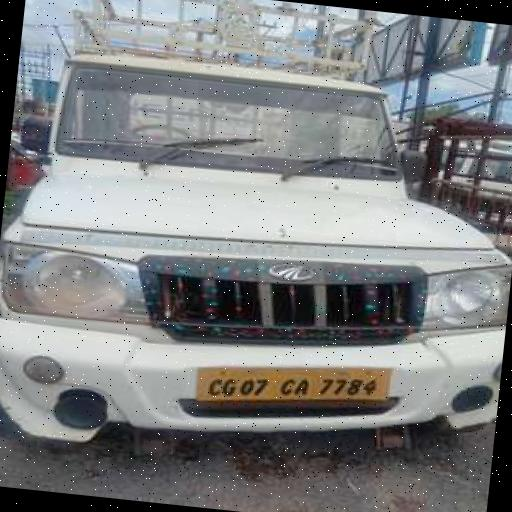license_plate`: (192, 341, 386, 419)
